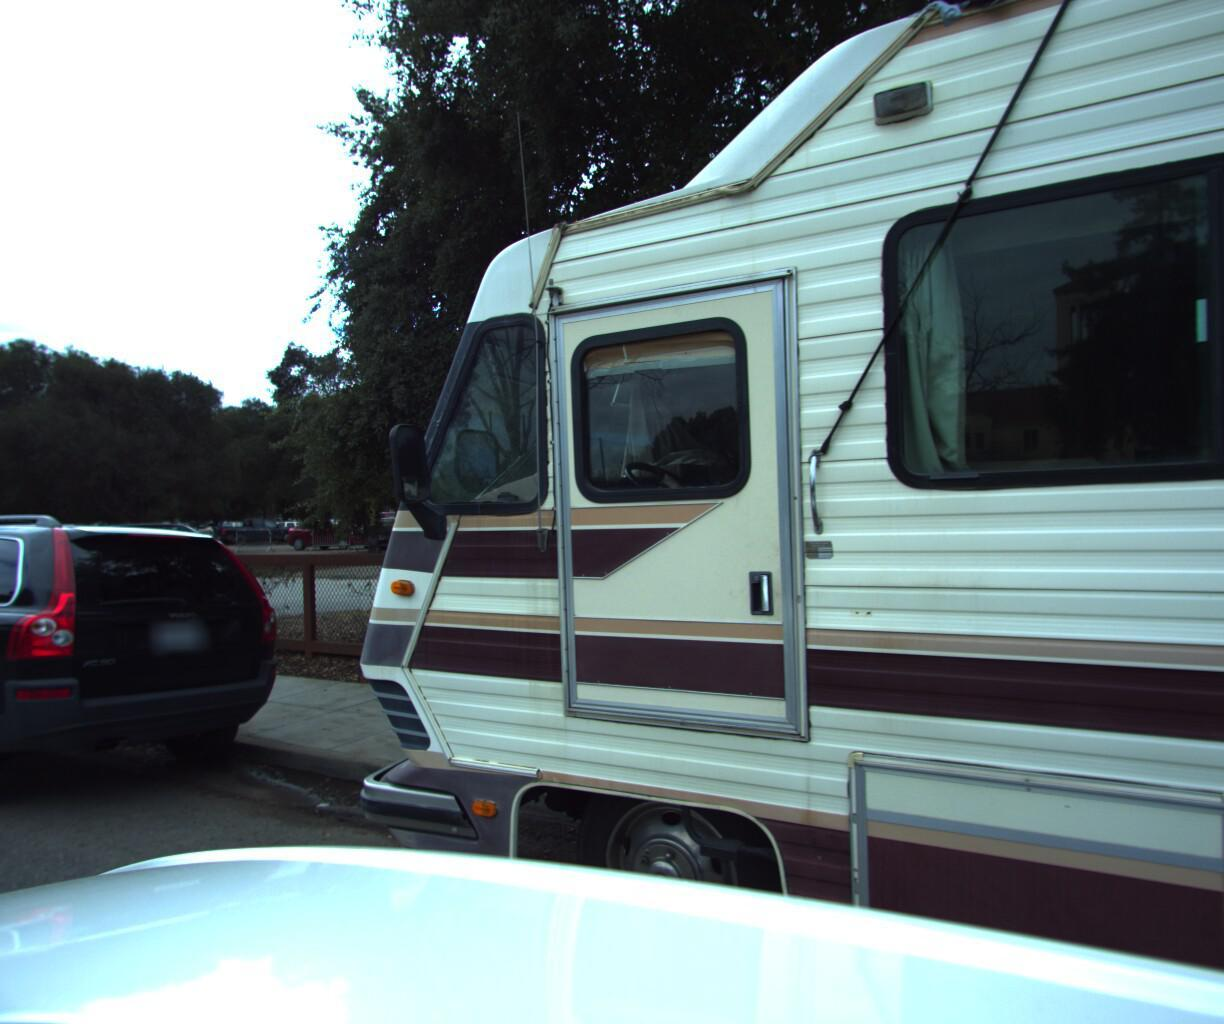car: (0, 504, 314, 840)
